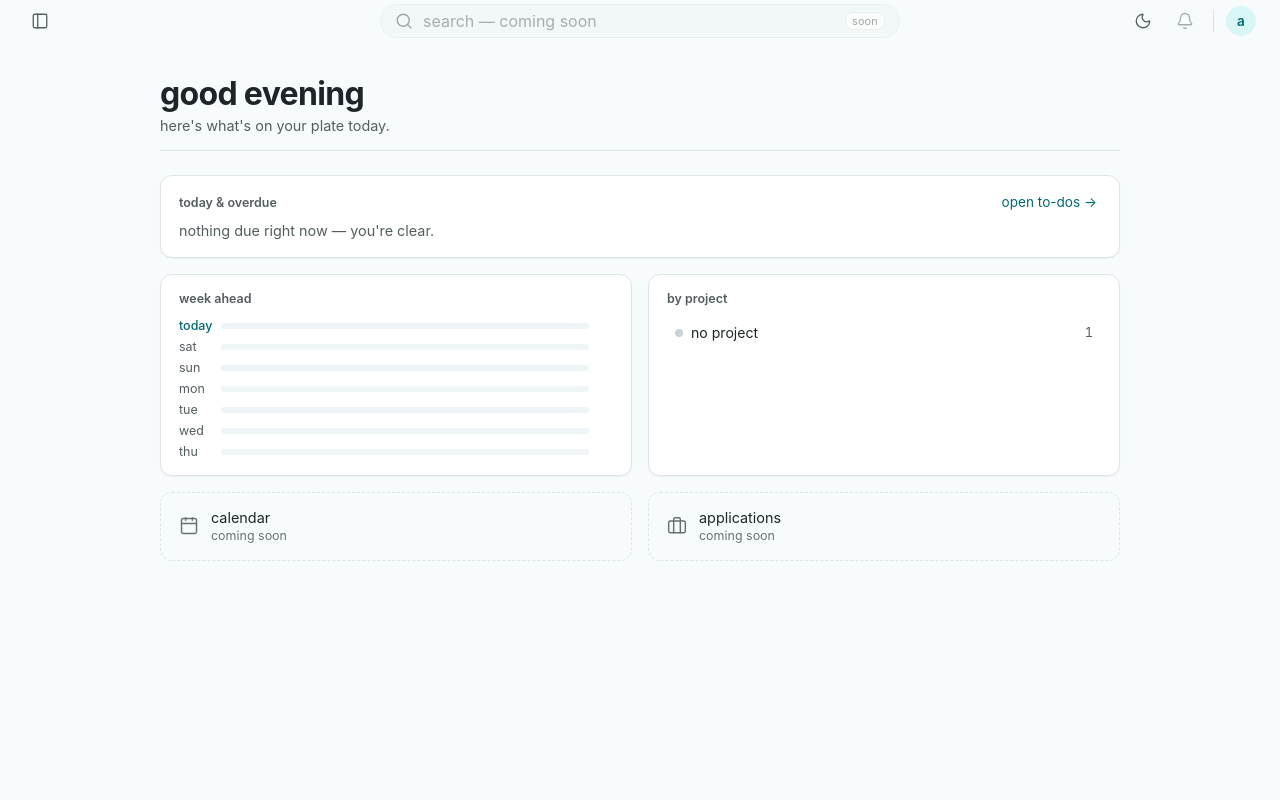
Test: TodoDashboard › combines a primary and a "then by" sort into one backend spec
Click the button named "toggle sidebar". click: (40, 21)
box: [24,5,56,37]
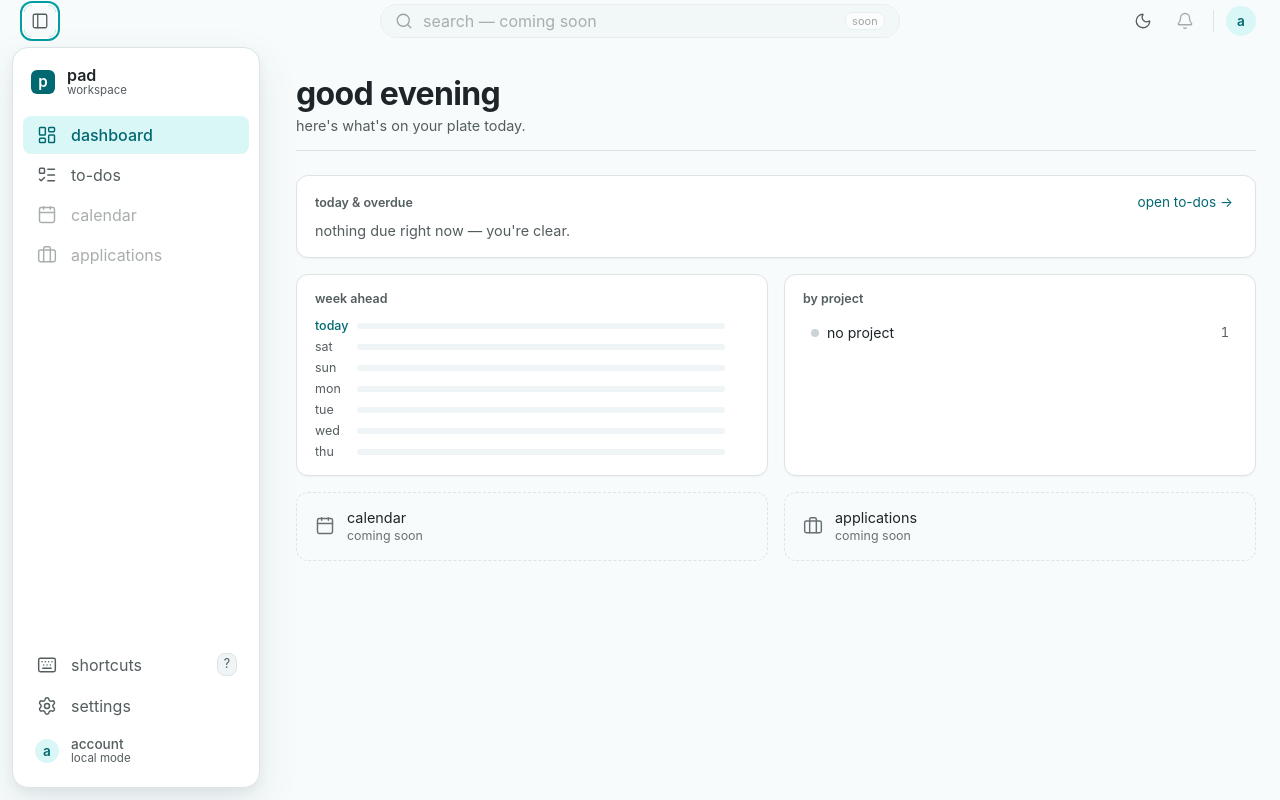
Click the button "to-dos". click: (136, 175)
box: [23,156,249,194]
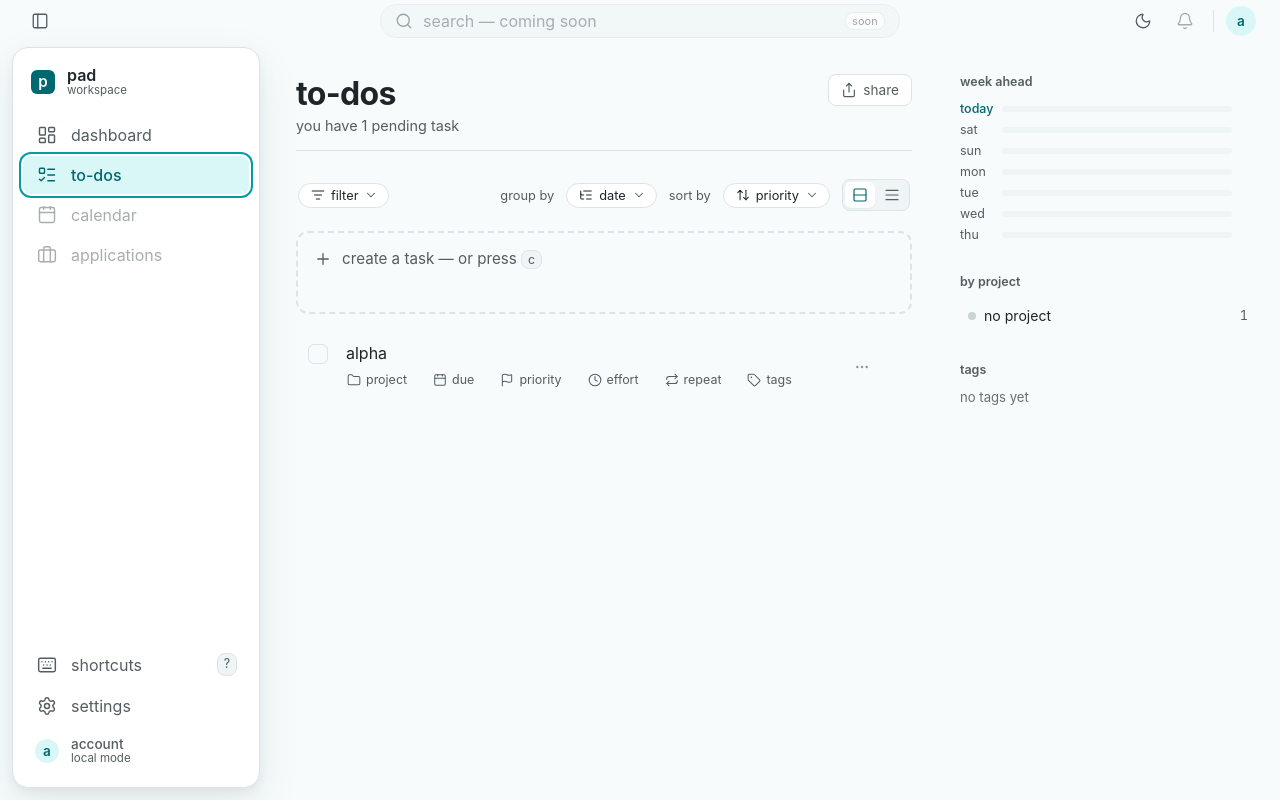
Expected: the button "alpha" is shown, [346,343,387,363]
Expected: the button with aria-label "sort by" reads "priority"
Click the button with aria-label "sort by". click: (776, 195)
box: [723,182,830,208]
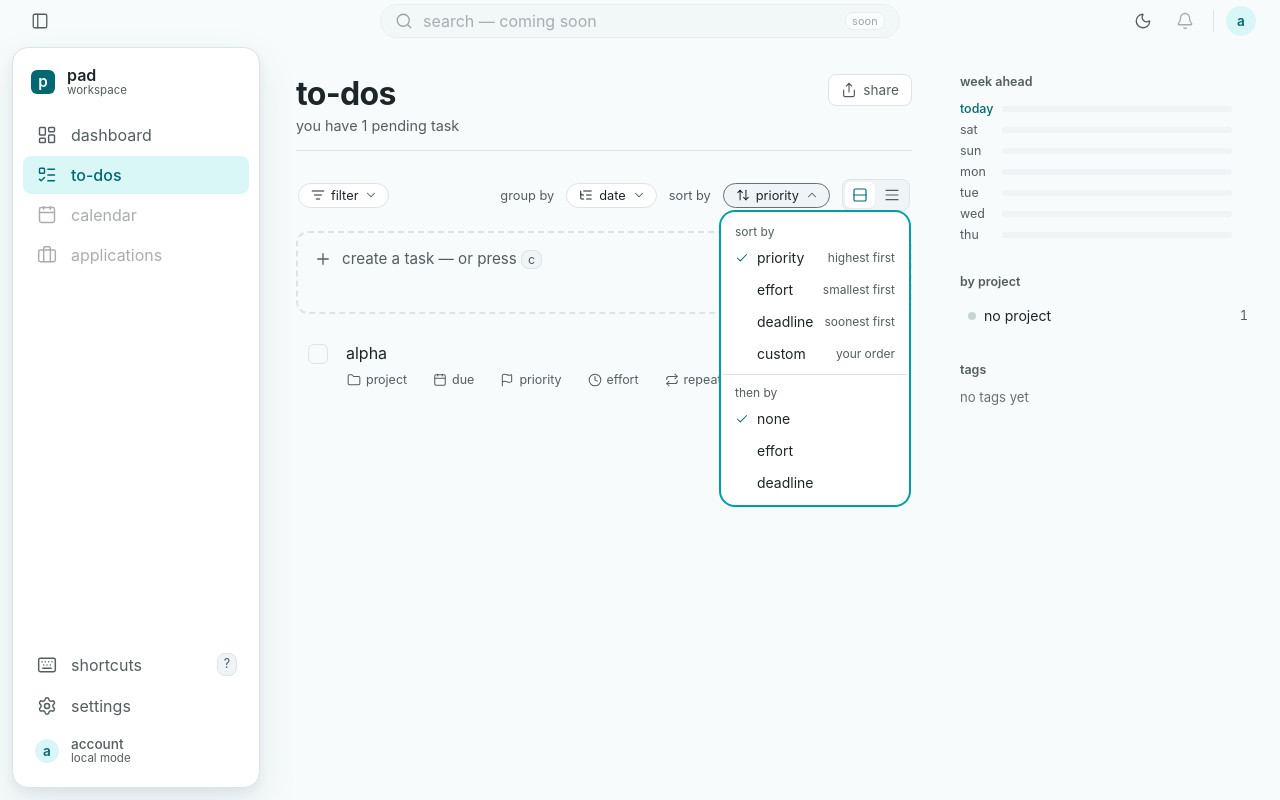
Click the menu item with aria-label "sort by deadline". click: (826, 322)
box: [757,313,895,330]
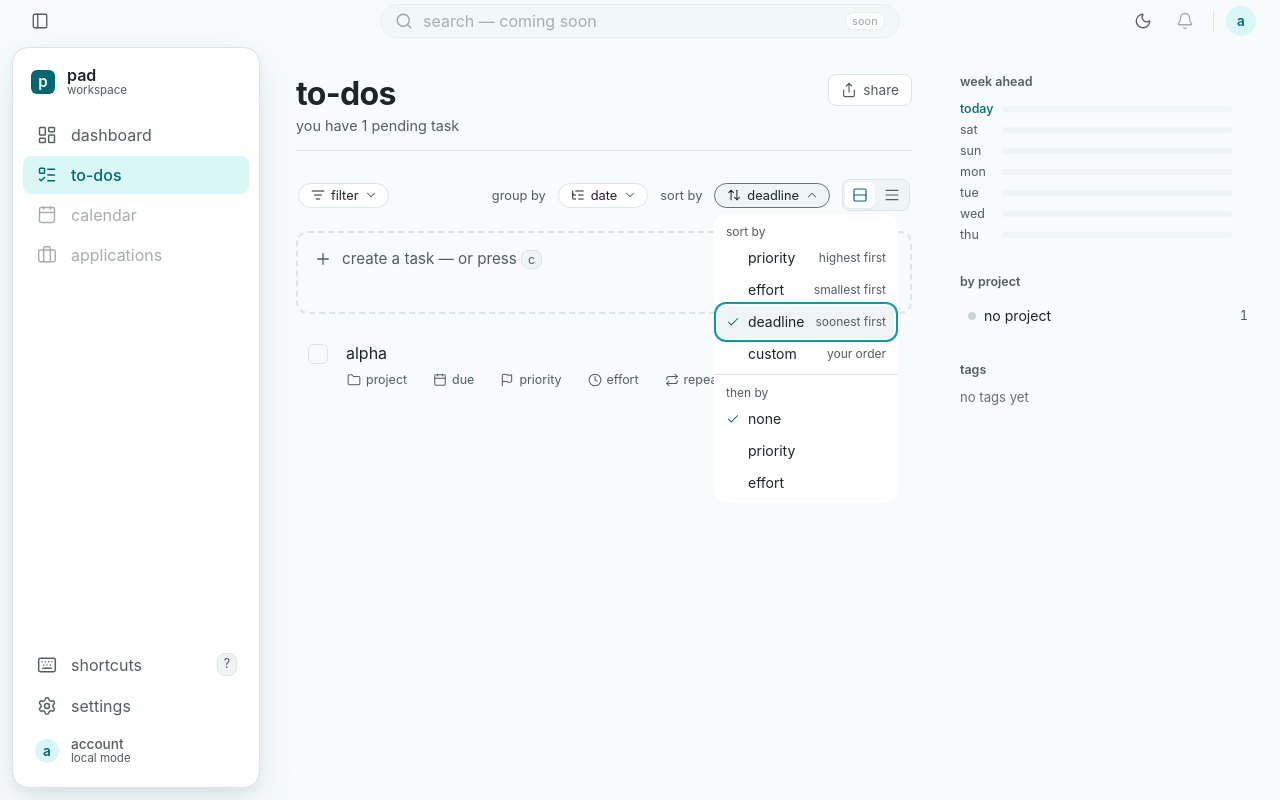
Click the menu item with aria-label "then by priority". click: (772, 450)
box: [748,442,795,459]
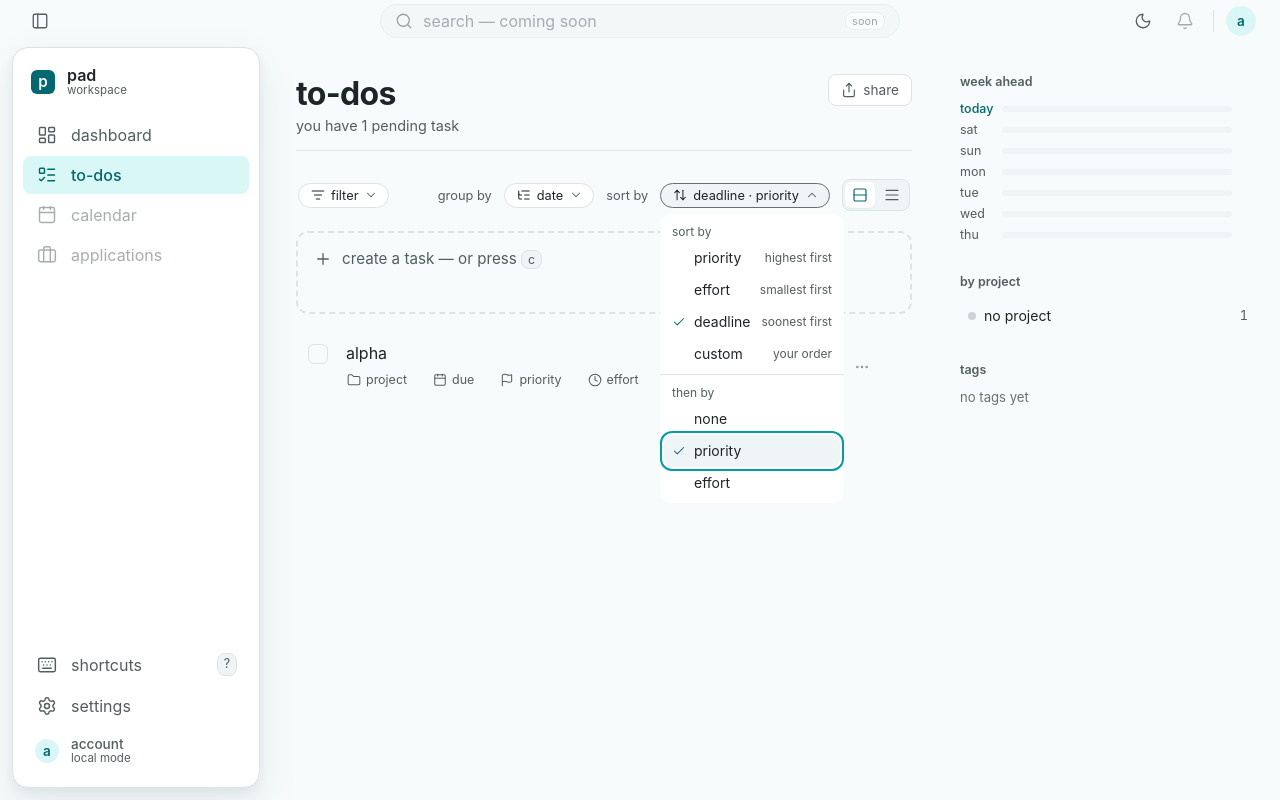
Press Escape
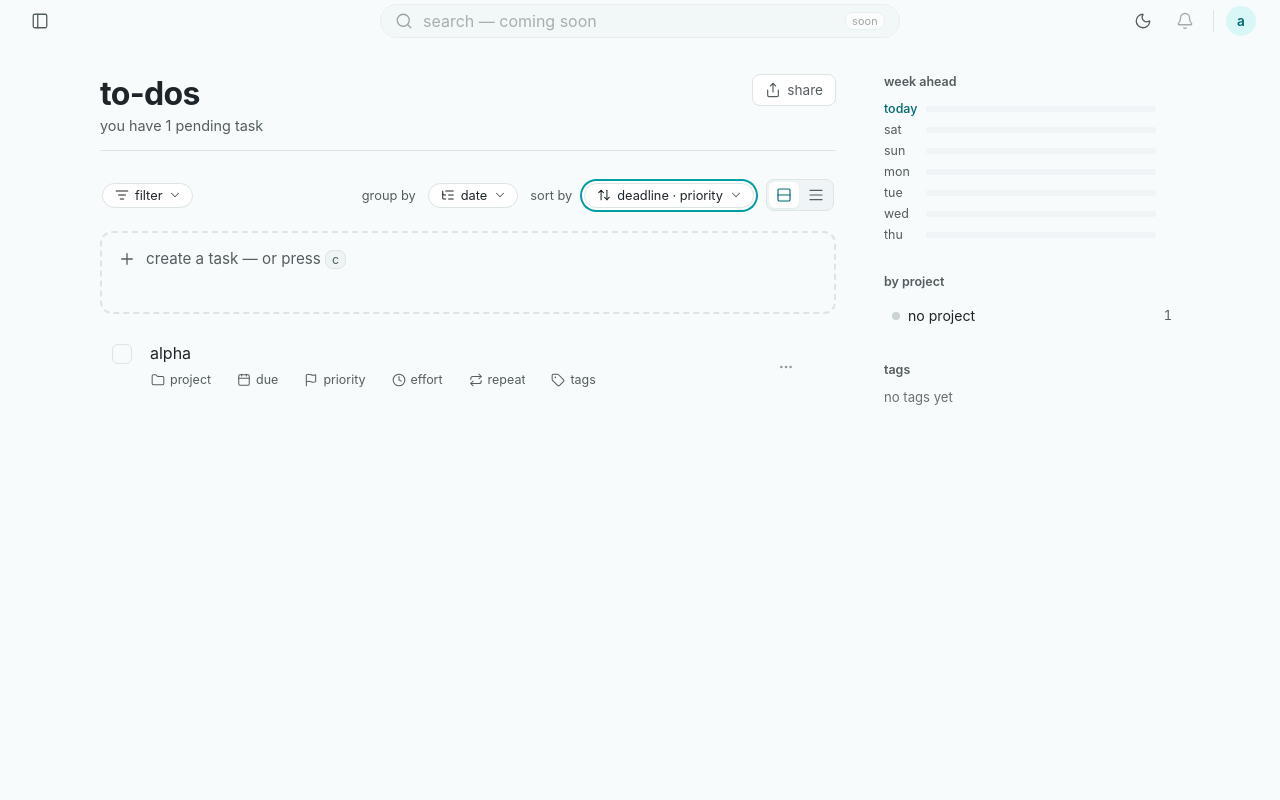
Expected: the button with aria-label "sort by" reads "deadline · priority", [584,182,754,208]
Expected: the menu "then by none" is gone
